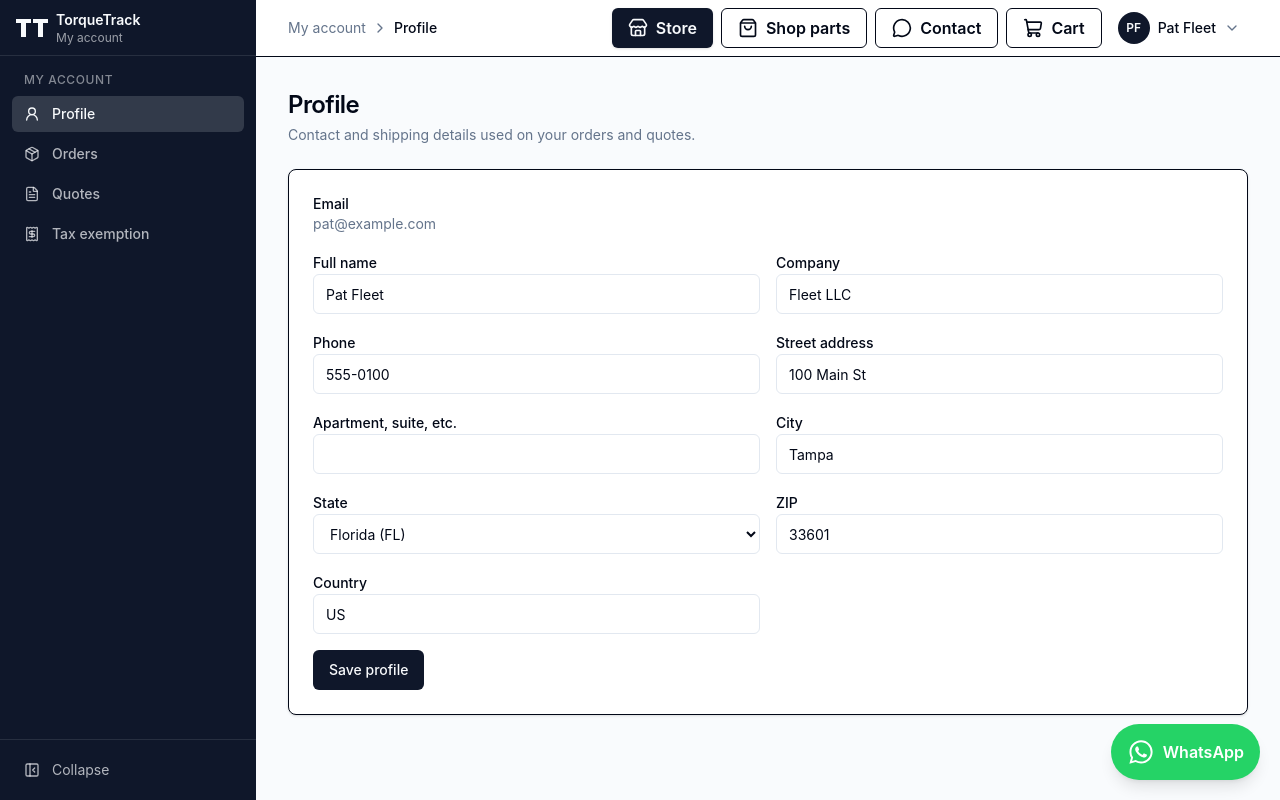
Scenario: PortalPage › saves only the whitelisted profile fields
Replace the text in the field labelled "City" with "Orlando" at (1000, 454), box [776,434,1223,474]
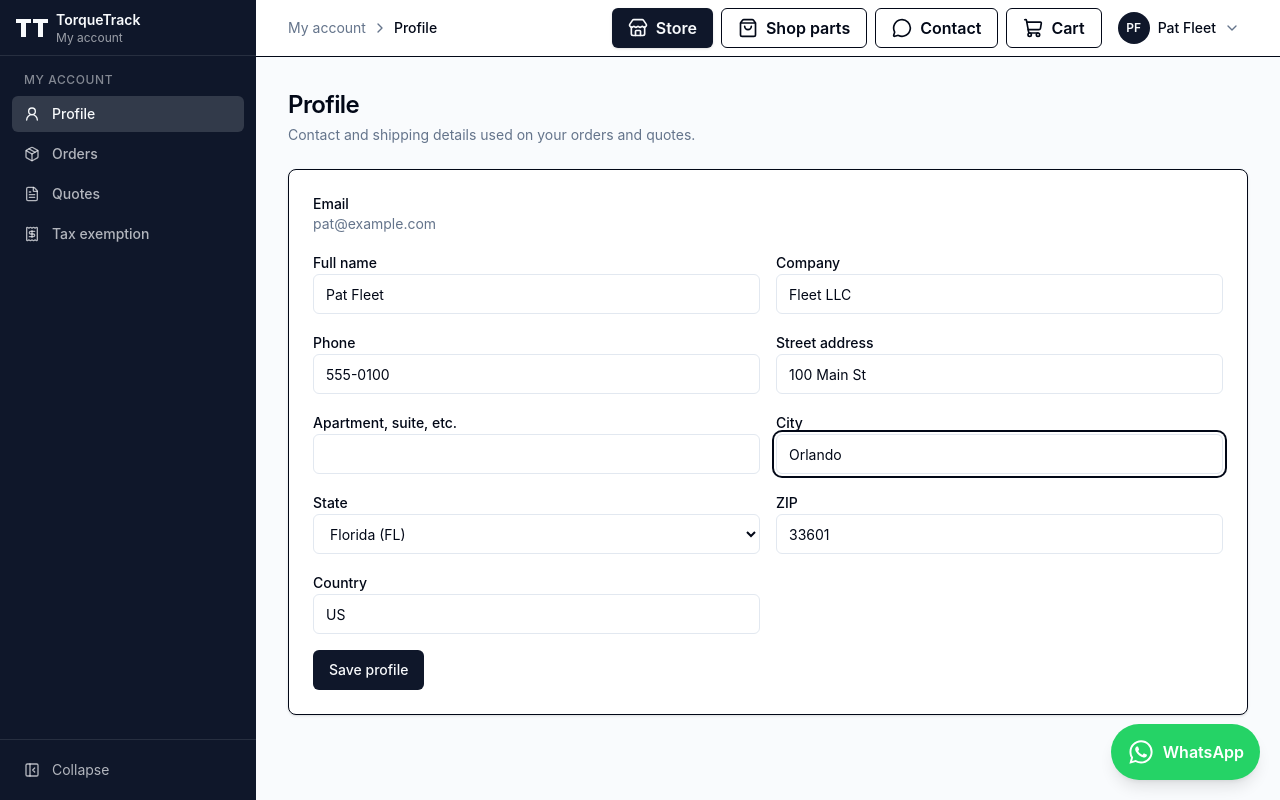
Click the button "Save profile".
click(369, 670)  # box [313,650,424,690]
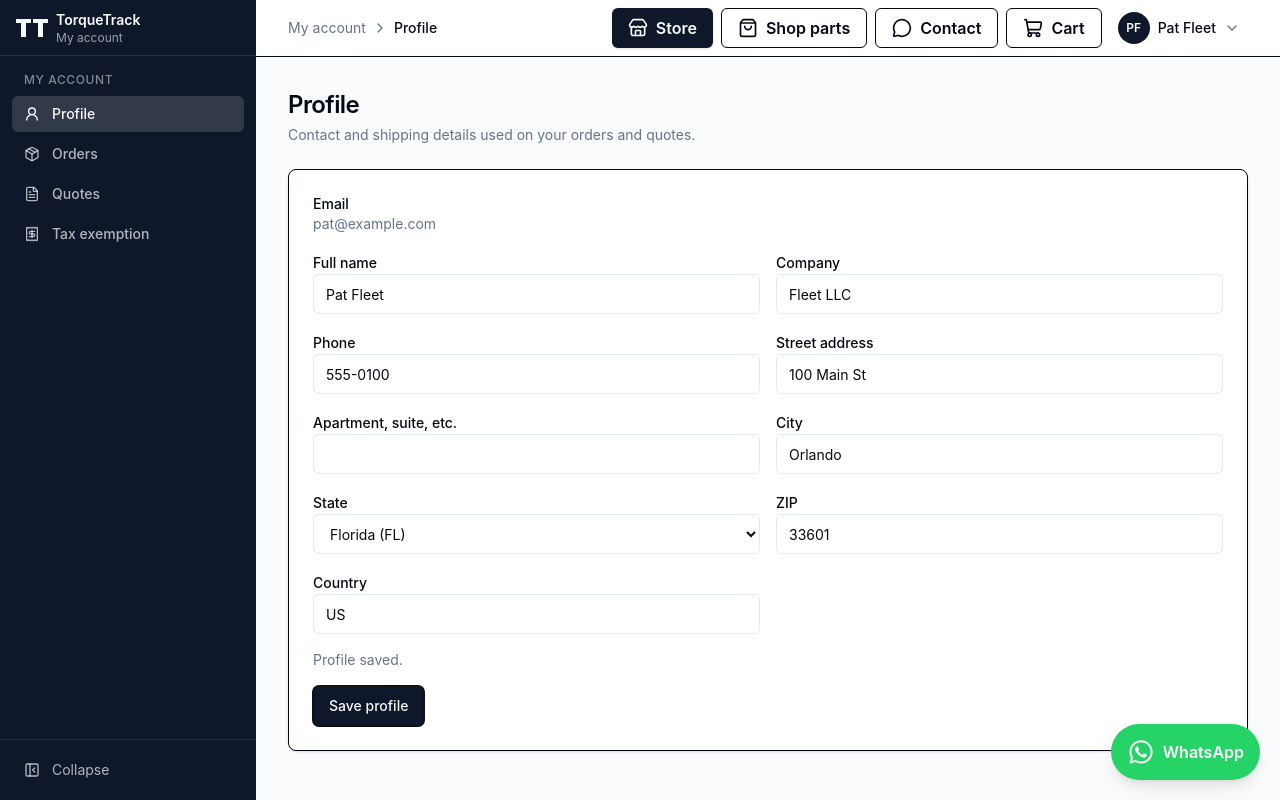
Now the text "Profile saved." is shown, box [313,651,403,668]
